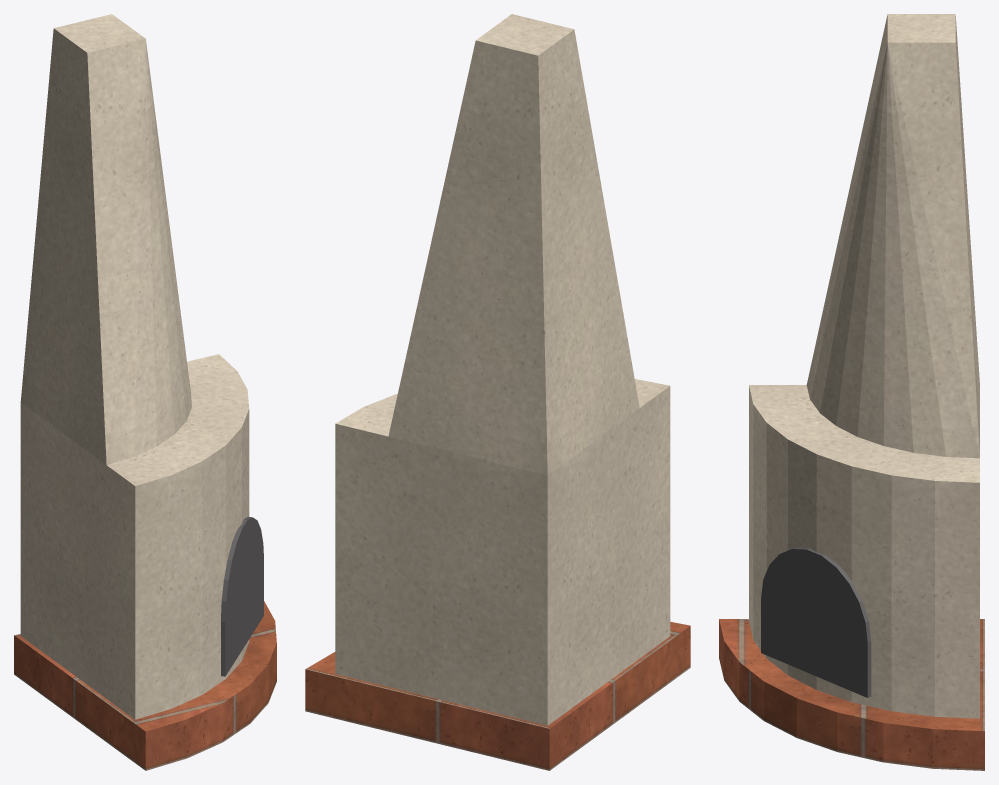
Rendered from kiva.glb.
The picture shows the model from 3 angles, left to right: view 1: azimuth 30°, elevation 25°; view 2: azimuth 150°, elevation 25°; view 3: azimuth 270°, elevation 25°; orthographic projection. The views are drawn at different scales.
Visible parts, largest first — view 1: kiva_render, kiva_saltillo, kiva_dark; view 2: kiva_render, kiva_saltillo; view 3: kiva_render, kiva_saltillo, kiva_dark.
Part boxes in pixels (left/top/right/bottom): kiva_render: left=20, top=14, right=249, bottom=719; kiva_saltillo: left=14, top=601, right=276, bottom=770; kiva_dark: left=221, top=516, right=263, bottom=676; kiva_render: left=335, top=14, right=670, bottom=725; kiva_saltillo: left=305, top=621, right=690, bottom=770; kiva_render: left=749, top=14, right=979, bottom=718; kiva_saltillo: left=719, top=619, right=984, bottom=770; kiva_dark: left=761, top=547, right=871, bottom=697.
Size of the model in its own units: 1.09 by 2.98 by 1.09.
3 materials, 2 textured.
